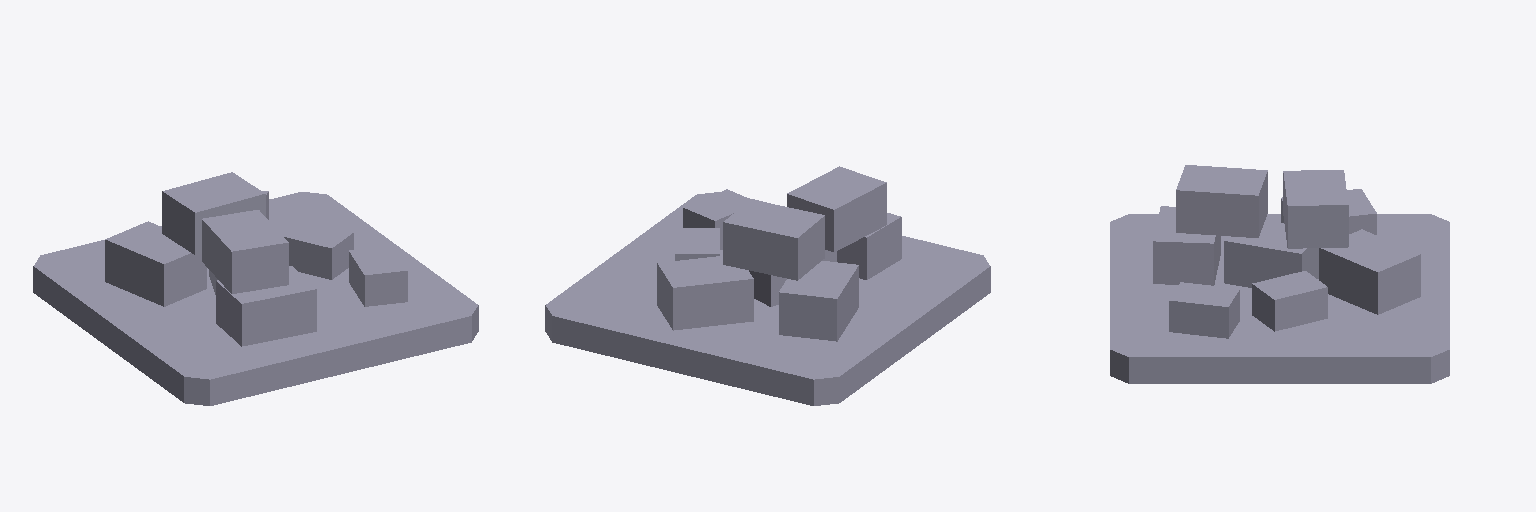
File: Level0.obj
The picture shows the model from 3 angles: view 1: azimuth 30°, elevation 25°; view 2: azimuth 150°, elevation 25°; view 3: azimuth 270°, elevation 25°; orthographic projection.
Parts seen in each view (by area): view 1: floor_square_1, debris_bricks_0; view 2: floor_square_1, debris_bricks_0; view 3: debris_bricks_0, floor_square_1.
Boxes of the visible parts, x1,y1,x2,y2 form: floor_square_1: [33, 192, 478, 405]; debris_bricks_0: [105, 172, 407, 346]; floor_square_1: [545, 192, 990, 405]; debris_bricks_0: [657, 166, 901, 341]; debris_bricks_0: [1153, 165, 1420, 338]; floor_square_1: [1110, 214, 1449, 383].
Bounding box in the file's own units: 1.12 × 0.4117 × 1.12.